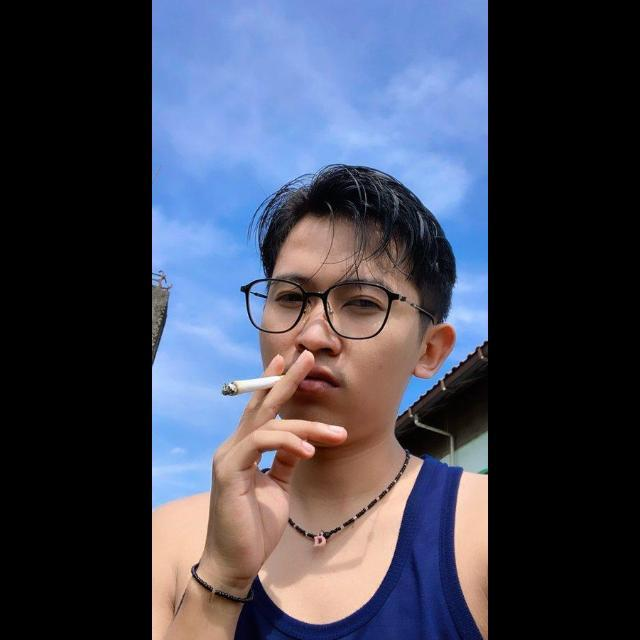rokok: (218, 368, 296, 399)
